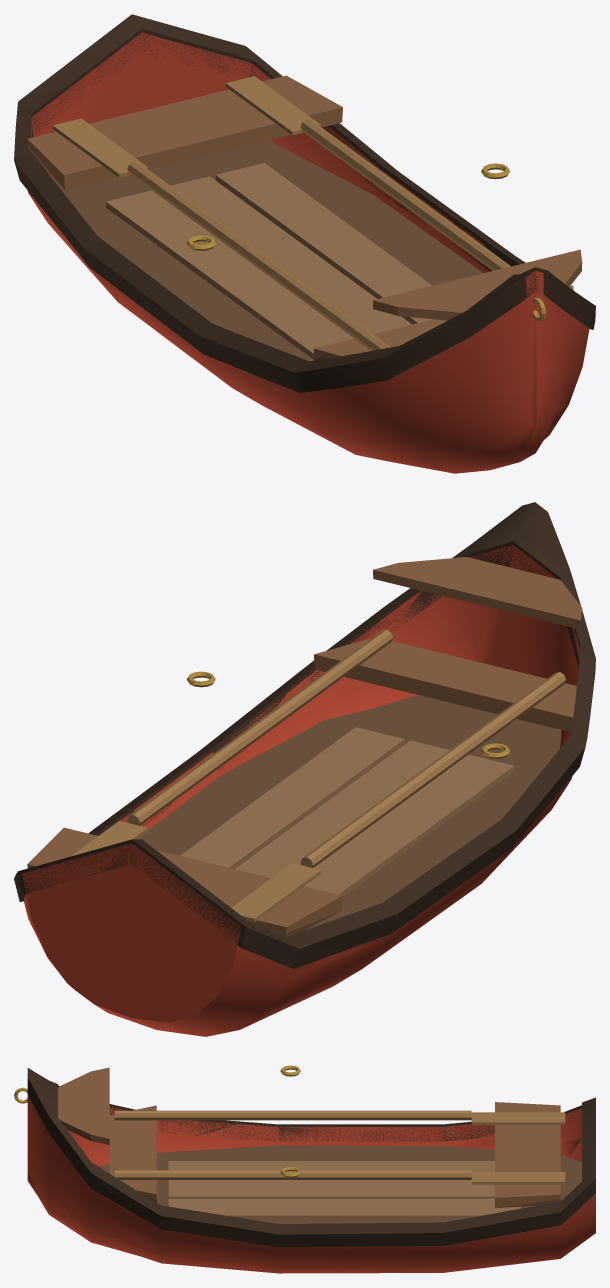
File: boat.glb
3 views of the same model, one above another, from view 1: azimuth 30°, elevation 25°; view 2: azimuth 150°, elevation 25°; view 3: azimuth 270°, elevation 25° (orthographic). The views are drawn at different scales.
Visible parts, largest first — view 1: hull0, sheer1, sole2, thwart4, board3_1, board3_3, board3_2, thwart6, oar7_mx, oar7, oar8, oar8_mx (+1 smaller); view 2: hull0, sheer1, sole2, thwart5, board3_3, board3_1, thwart6, board3_2, thwart4, oar7_mx, oar7, oar8_mx (+1 smaller); view 3: hull0, sheer1, sole2, board3_3, board3_2, thwart4, oar7_mx, oar7, board3_1, thwart6, thwart5, oar8 (+1 smaller).
Part boxes in pixels (<box>): hull0: <box>27,32,589,473</box>; sheer1: <box>14,14,595,392</box>; sole2: <box>53,140,483,361</box>; thwart4: <box>27,75,342,189</box>; board3_1: <box>106,190,353,360</box>; board3_3: <box>215,163,432,324</box>; board3_2: <box>171,176,411,333</box>; thwart6: <box>373,249,582,320</box>; oar7_mx: <box>127,161,390,350</box>; oar7: <box>300,119,510,270</box>; oar8: <box>225,76,321,135</box>; oar8_mx: <box>52,118,147,177</box>; hull0: <box>22,545,580,1036</box>; sheer1: <box>14,502,595,968</box>; sole2: <box>138,695,561,929</box>; thwart5: <box>314,639,576,731</box>; board3_3: <box>180,727,404,868</box>; board3_1: <box>304,754,514,896</box>; thwart6: <box>373,557,582,629</box>; board3_2: <box>235,740,449,877</box>; thwart4: <box>27,827,342,937</box>; oar7_mx: <box>300,672,566,867</box>; oar7: <box>127,629,392,825</box>; oar8_mx: <box>231,863,321,922</box>; hull0: <box>27,1095,595,1273</box>; sheer1: <box>27,1068,595,1247</box>; sole2: <box>98,1145,581,1223</box>; board3_3: <box>168,1198,520,1219</box>; board3_2: <box>168,1180,494,1198</box>; thwart4: <box>495,1102,560,1208</box>; oar7_mx: <box>114,1110,471,1120</box>; oar7: <box>114,1170,471,1179</box>; board3_1: <box>168,1161,494,1171</box>; thwart6: <box>58,1067,109,1144</box>; thwart5: <box>109,1105,156,1202</box>; oar8: <box>471,1172,565,1184</box>.
Size of the model in its own units: 1.11 by 0.882 by 2.48.
